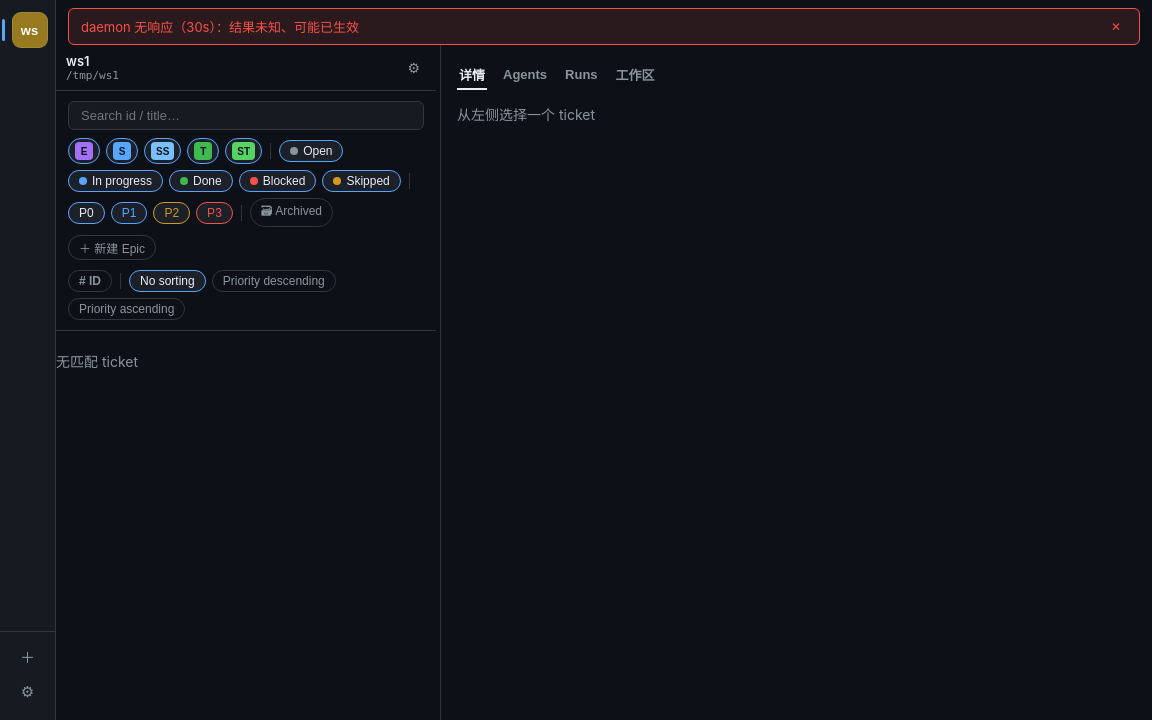
Test case: CF2：timeoutNotice 绑定 home 与 refreshNodes 序号 › App：超时提示可关闭（CF2 关闭按钮）
The width and height of the screenshot is (1152, 720).
Expected: the message with class "timeout-notice" shows "结果未知", [81,19,359,35]
Click the button named "关闭超时提示" at point(1116, 26), box [1105,18,1127,36]
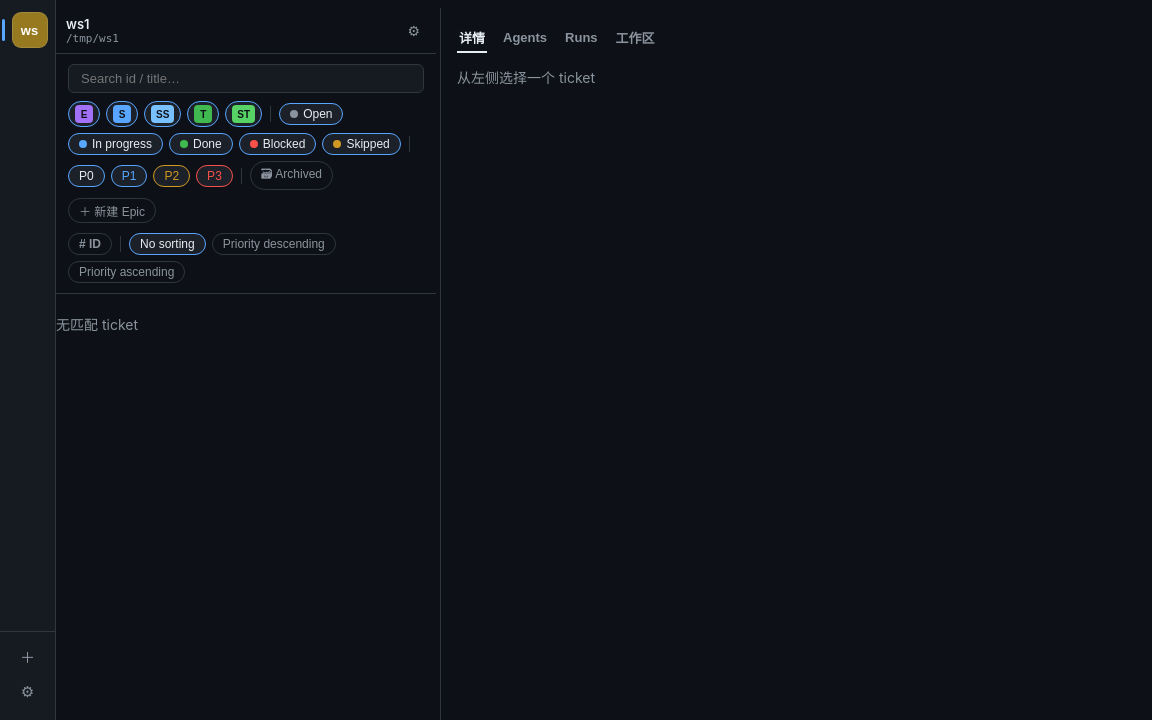
Expected: the message with class "timeout-notice" is gone
